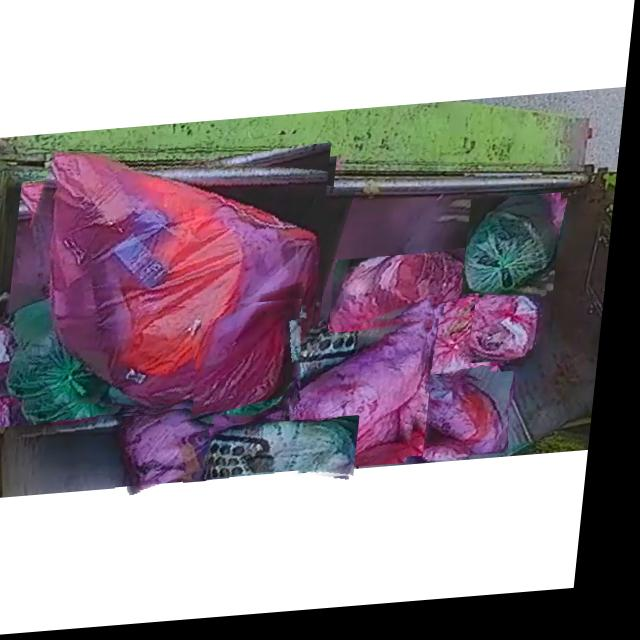general_trashbag: (202, 306, 307, 427), (472, 205, 564, 302), (218, 428, 366, 483)
other_trashbag: (54, 154, 326, 424), (296, 326, 436, 477), (341, 260, 488, 339), (131, 413, 223, 495), (422, 324, 505, 401), (437, 388, 516, 462), (475, 306, 546, 372)
